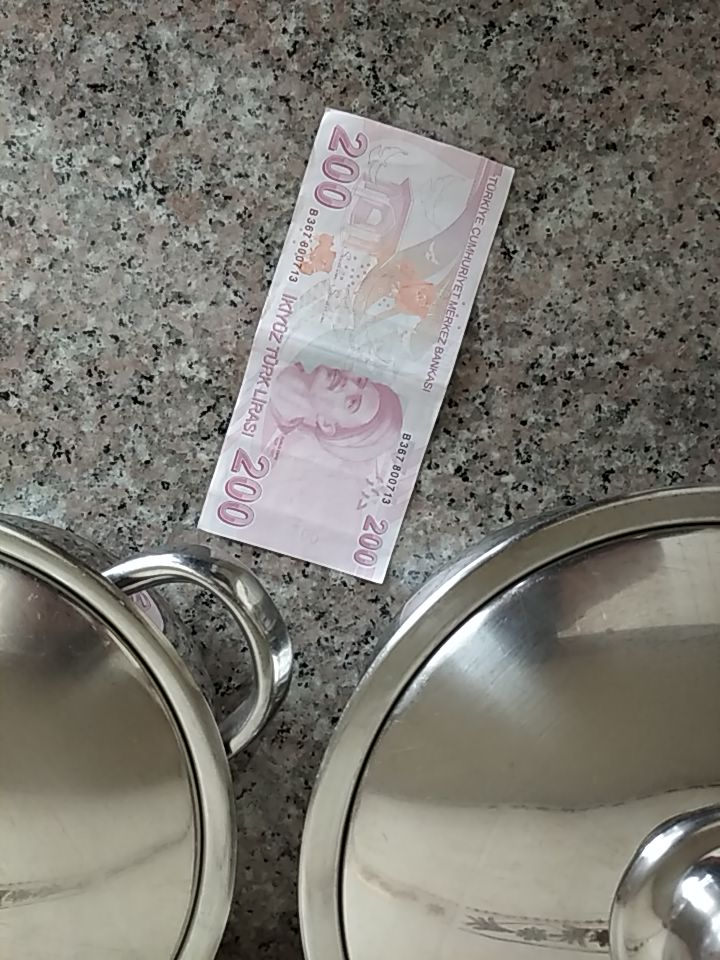200TL: (194, 107, 518, 586)
